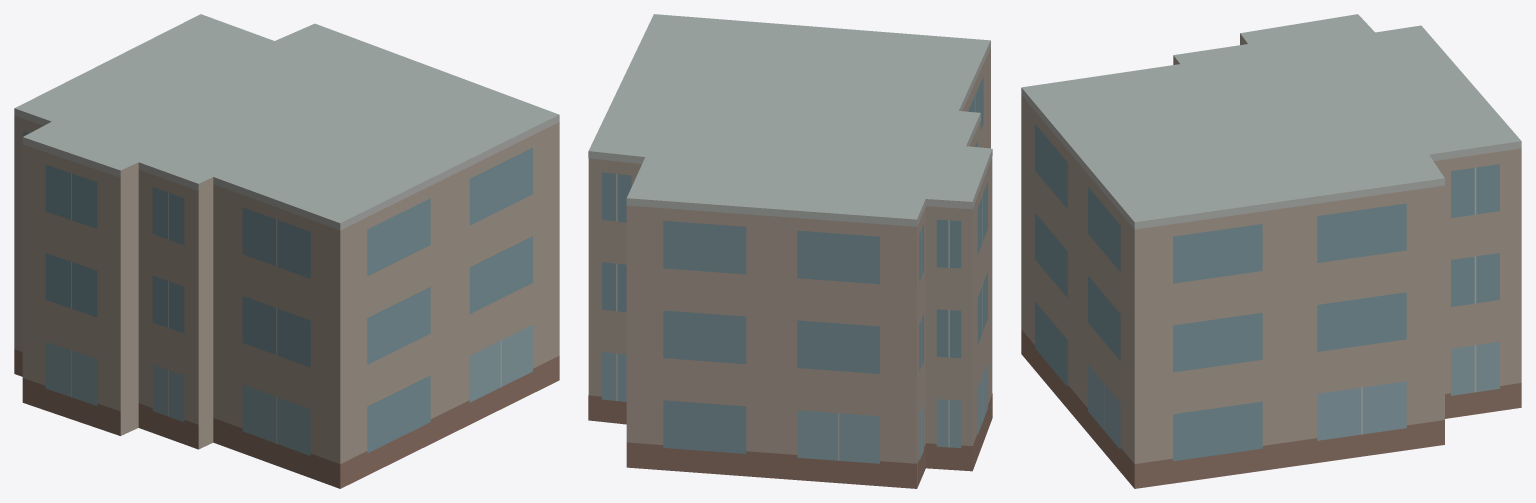
File: survey-upis-32981634.glb
3 views of the same model, side by side, from view 1: azimuth 30°, elevation 25°; view 2: azimuth 150°, elevation 25°; view 3: azimuth 270°, elevation 25° (orthographic).
Visible parts, largest first — view 1: survey-upis-32981634.tmp; view 2: survey-upis-32981634.tmp; view 3: survey-upis-32981634.tmp.
Boxes of the visible parts, left/top/right/bottom form: survey-upis-32981634.tmp: left=14, top=14, right=559, bottom=488; survey-upis-32981634.tmp: left=588, top=14, right=992, bottom=488; survey-upis-32981634.tmp: left=1021, top=14, right=1521, bottom=488.
Bounding box in the file's own units: 15.1 × 9 × 15.32.
